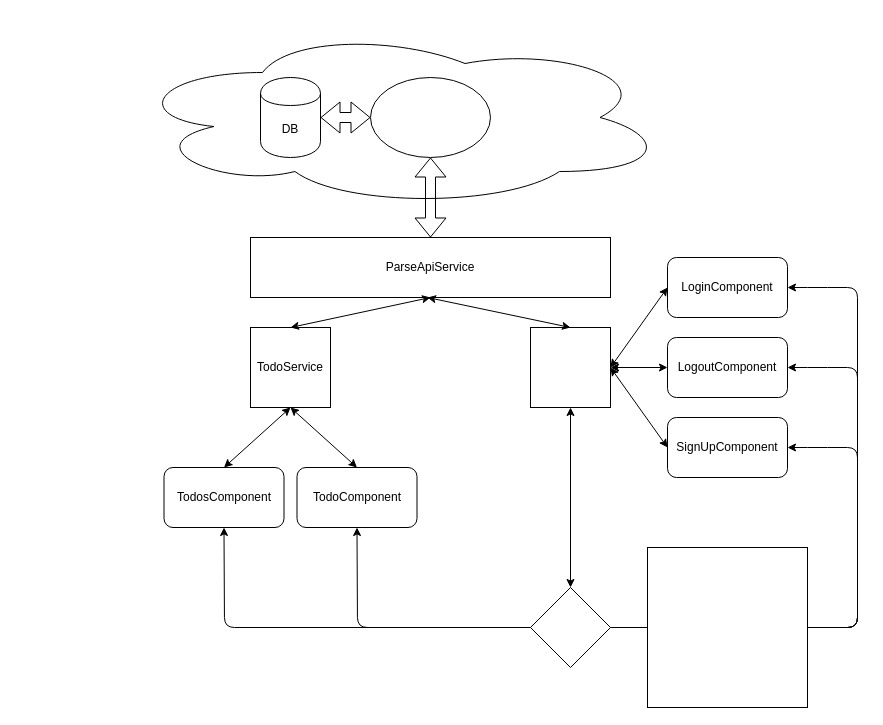
The diagram is 883 pixels wide and 725 high, and some of its shapes have lost their labels. Each missing label, with the centre of its shape:
"APIServer" goes at (430,117).
"APP" goes at (727,627).
"RouteGuard" goes at (570,627).
"UserService" goes at (570,367).
